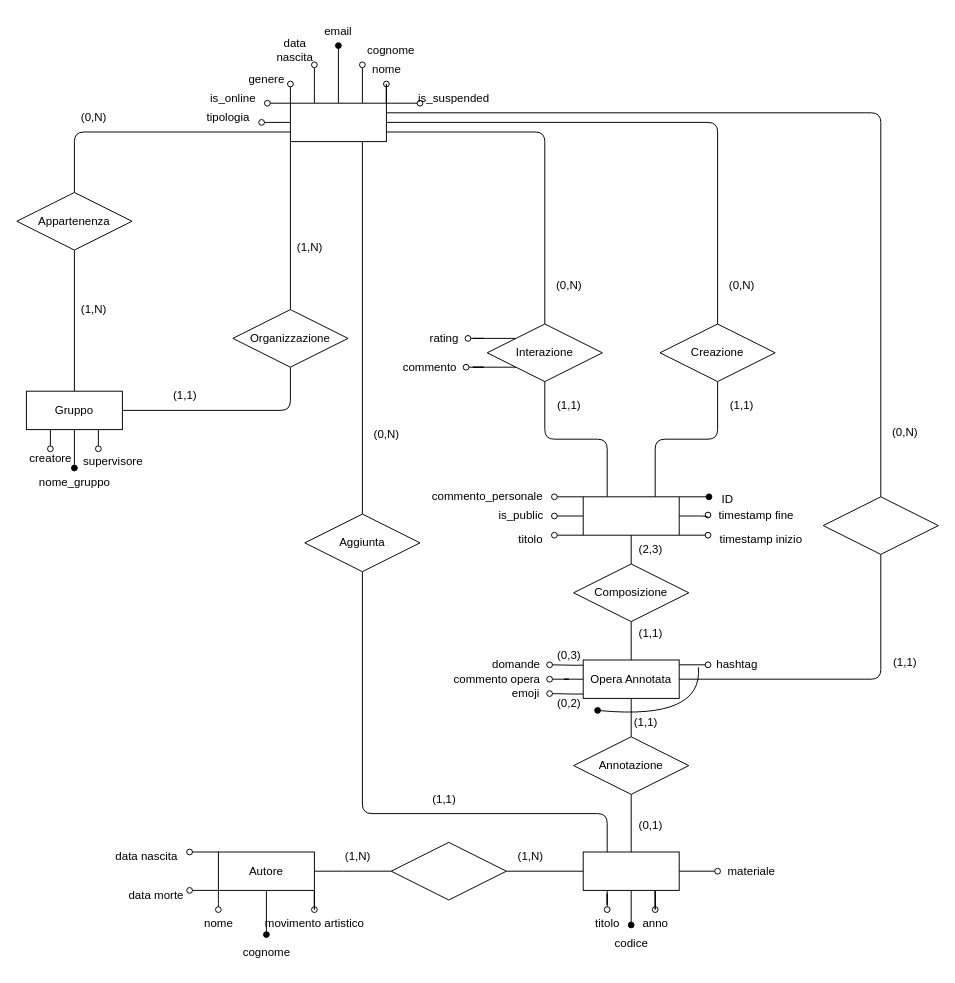
The diagram is 955 pixels wide and 983 high, and some of its shapes have lost their labels. Each missing label, with the box of its shape:
Opera: (582, 851, 679, 890)
Realizzazione: (390, 841, 506, 900)
Riflessione: (822, 496, 938, 554)
Storia: (582, 496, 679, 535)
Utente: (289, 102, 386, 142)
